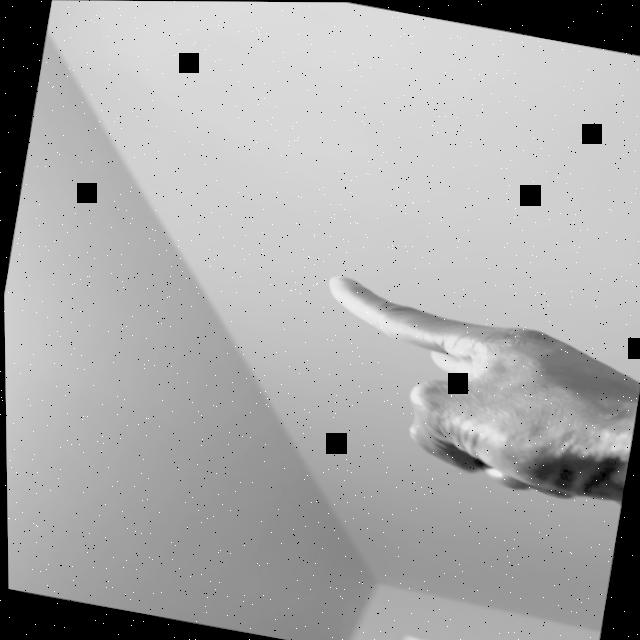Scissors: (294, 273, 640, 506)
